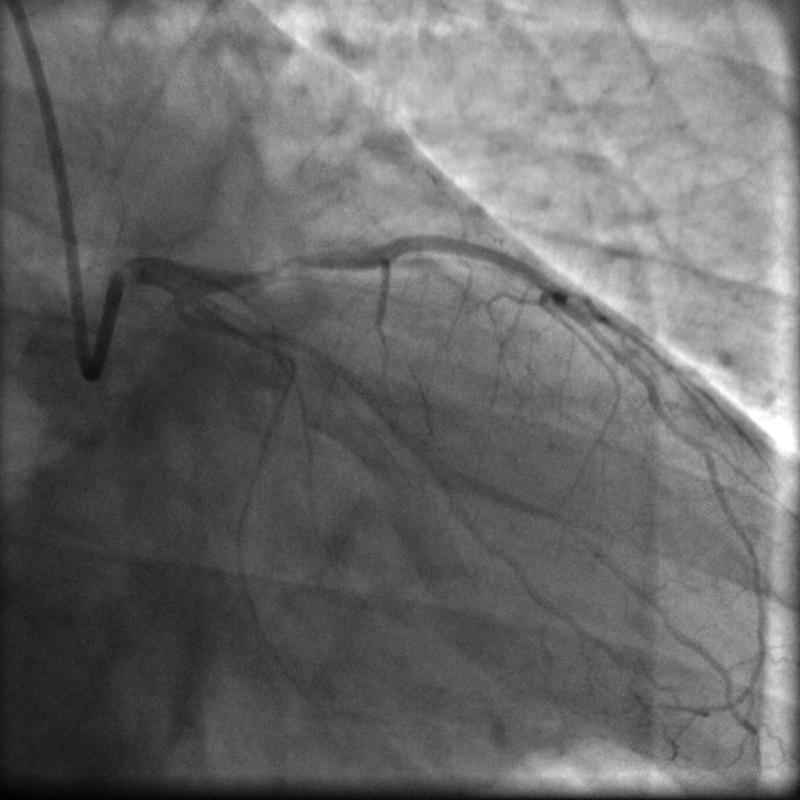Stenosis: (239, 251, 325, 282)
